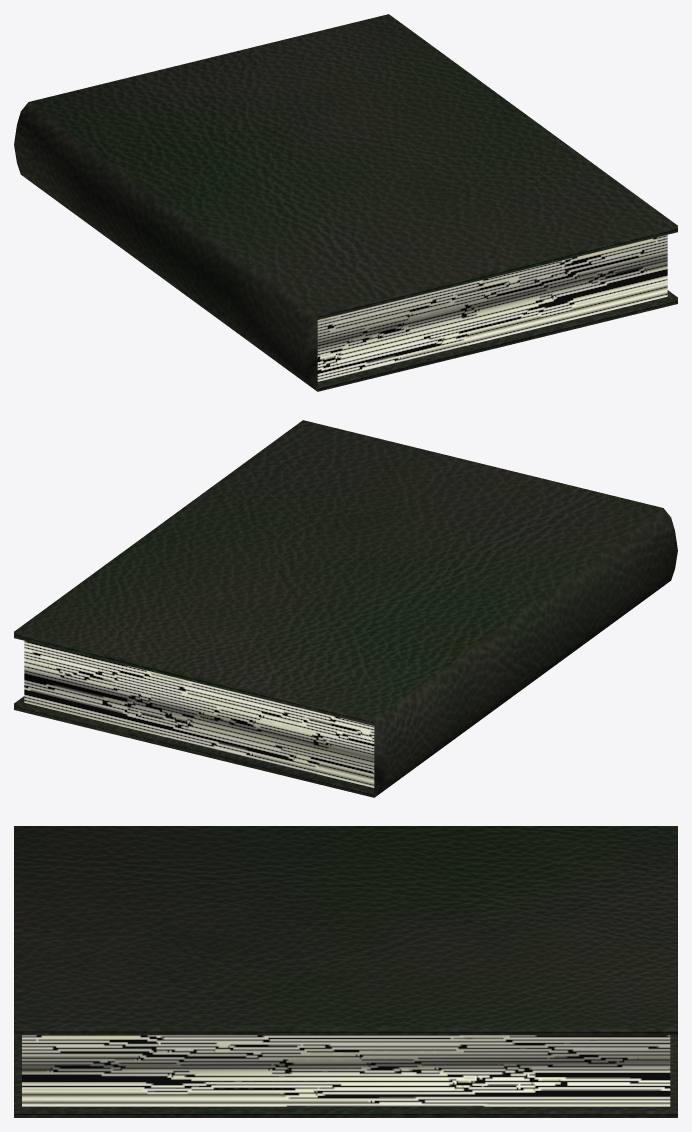
Rendered from Book_4.fbx.
3 views of the same model, one above another, from view 1: azimuth 30°, elevation 25°; view 2: azimuth 150°, elevation 25°; view 3: azimuth 270°, elevation 25° (orthographic). The views are drawn at different scales.
Visible parts, largest first — view 1: Book; view 2: Book; view 3: Book.
Boxes of the visible parts, x1,y1,x2,y2 form: Book: (14,14,677,391); Book: (14,420,677,797); Book: (14,826,677,1117).
Bounding box in the file's own units: 14.85 × 2.96 × 19.84.
1 material, 1 textured.
